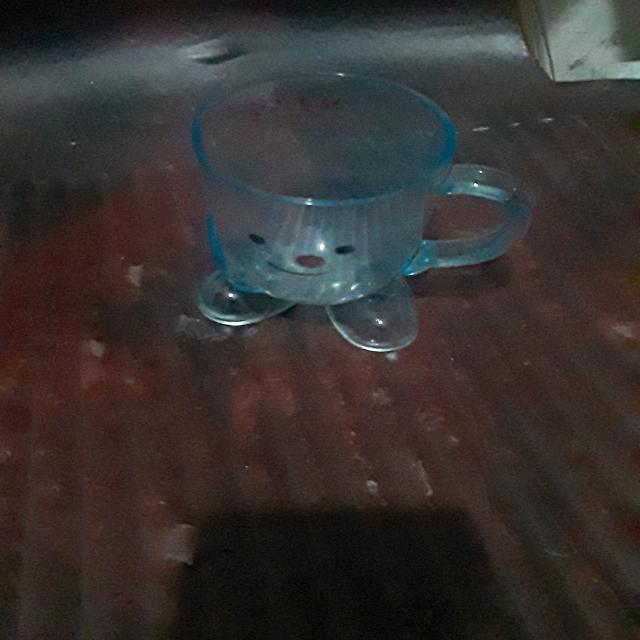Glass: (185, 68, 538, 354)
